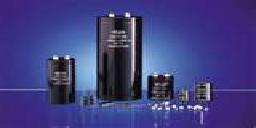Electrolytic-Capacitor: (95, 8, 144, 100), (45, 51, 78, 104), (147, 72, 175, 104)
